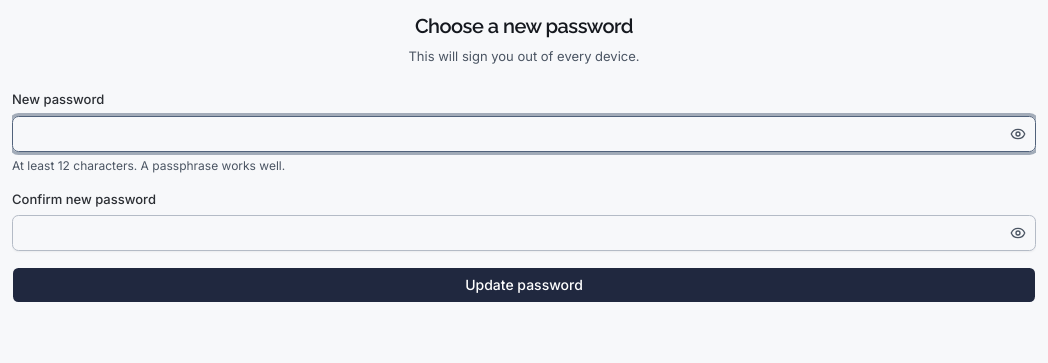
Test: ResetPasswordForm › validates length and confirmation
The image size is (1048, 363).
Type "short" into the password field labelled "New password". click: {"x": 524, "y": 134}
box: [12,116,1036,152]
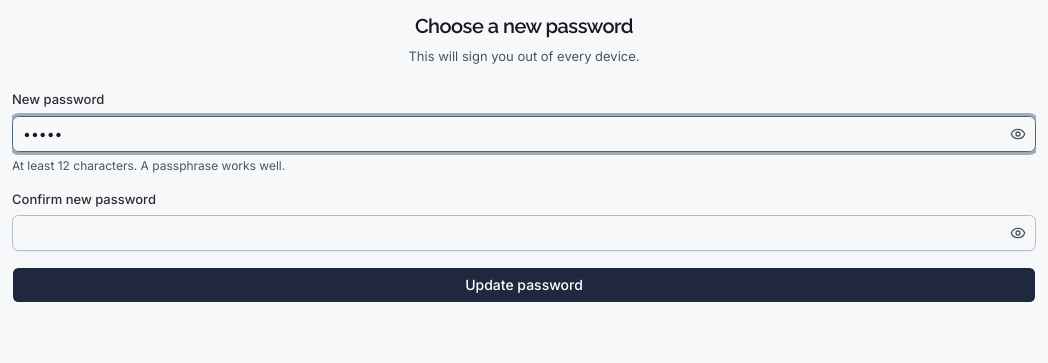
Type "different" into the password field labelled "Confirm new password". click: {"x": 524, "y": 233}
box: [12,215,1036,251]
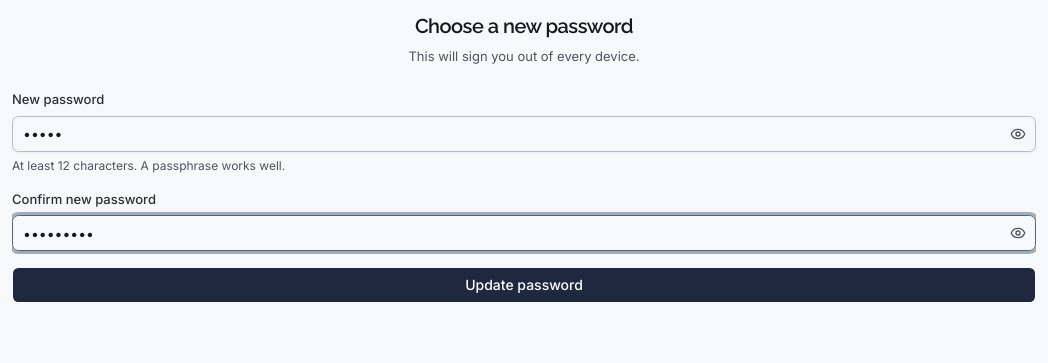
Click the button "Update password". click: {"x": 524, "y": 285}
box: [12,267,1036,303]
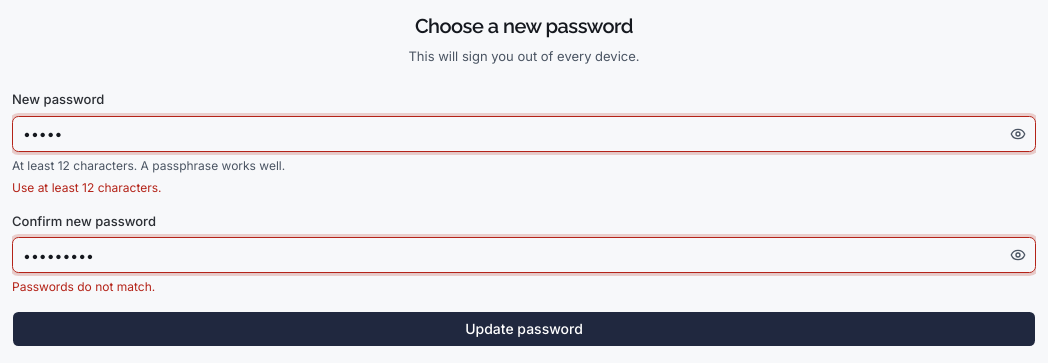
Expected: the text "Use at least 12 characters." is shown, [12,180,162,194]
Expected: the text "Passwords do not match." is shown, [12,279,155,294]
